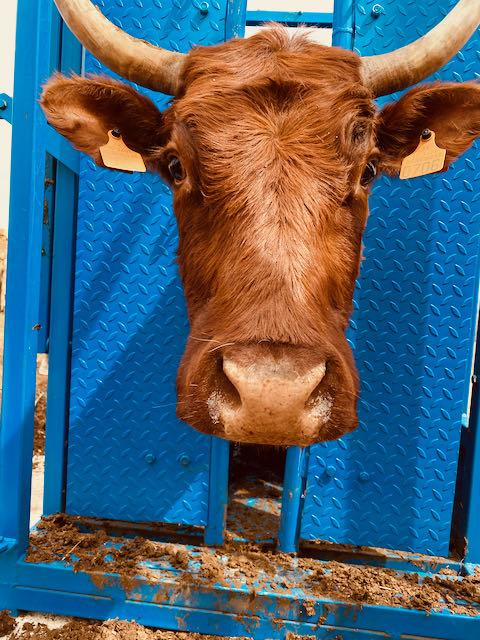muzzles: (201, 335, 342, 449)
